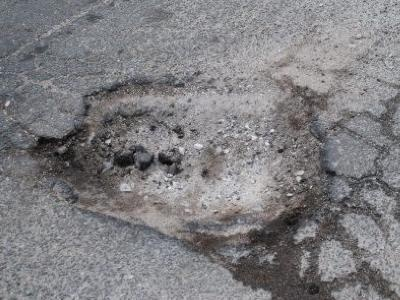pothole: (29, 73, 338, 257)
